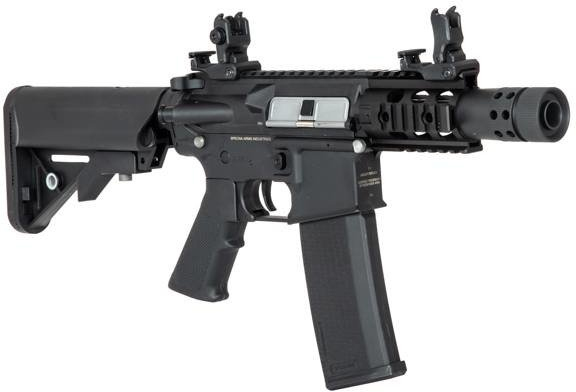m4_carbine: (168, 70, 372, 390)
